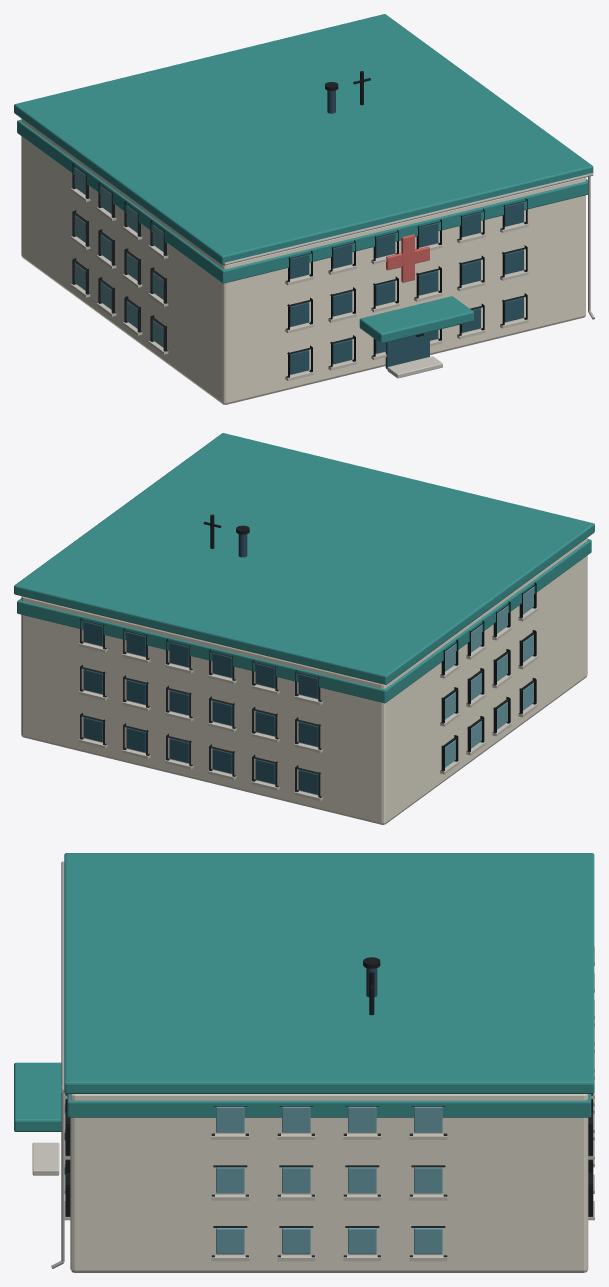
The model's file is CIV_HEALTH_3x3_001.glb.
The picture shows the model from 3 angles, top to bottom: view 1: azimuth 30°, elevation 25°; view 2: azimuth 150°, elevation 25°; view 3: azimuth 270°, elevation 25°; orthographic projection. The views are drawn at different scales.
Parts seen in each view (by area): view 1: CIV_HEALTH_3x3_001_Visual; view 2: CIV_HEALTH_3x3_001_Visual; view 3: CIV_HEALTH_3x3_001_Visual.
Part boxes in pixels (bbox=[...]): CIV_HEALTH_3x3_001_Visual: bbox=[14, 14, 594, 404]; CIV_HEALTH_3x3_001_Visual: bbox=[14, 433, 594, 824]; CIV_HEALTH_3x3_001_Visual: bbox=[14, 853, 594, 1272].
Size of what is drawn, in the model's own units: 5.38 by 2.56 by 5.72.
